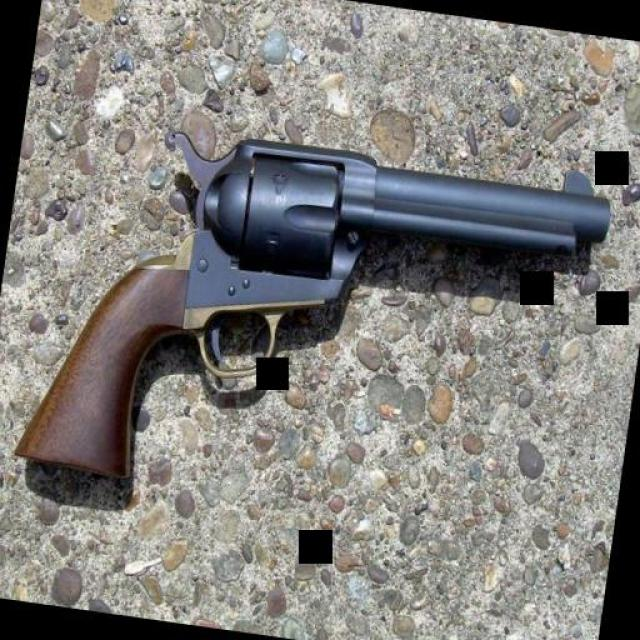gun: (5, 77, 619, 568)
